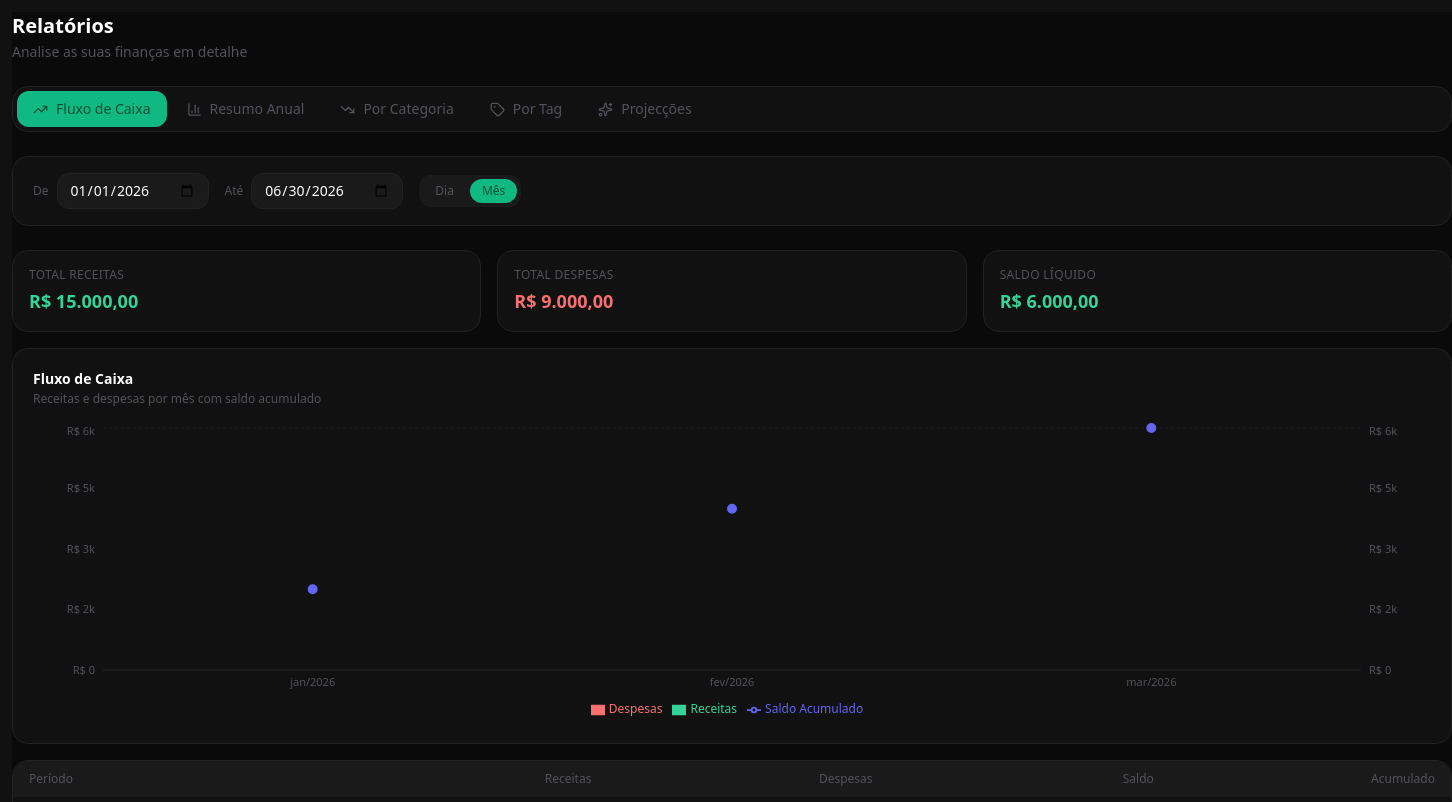
Test case: ReportsPage › deve navegar para tab Projecções ao clicar
Step 1. Click the button "Projecções" → (645, 109), box [582,91,708,127]
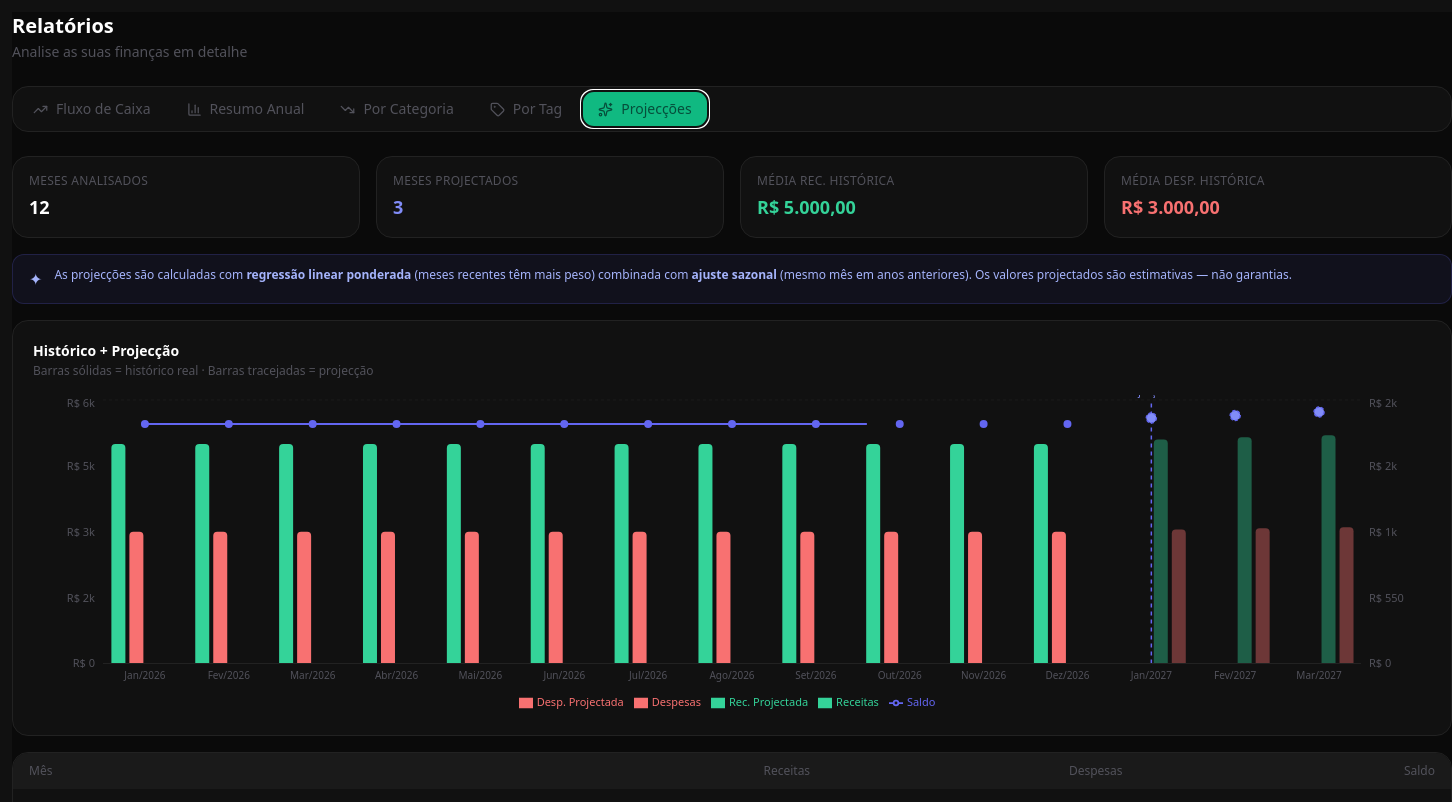
Result: the text "Meses analisados" is shown at [29,172,148,189]
Result: the text "Meses projectados" is shown at [393,172,518,189]
